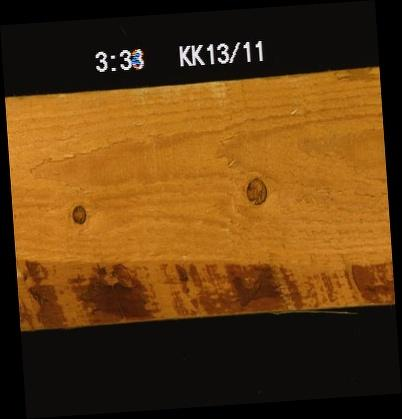dry_knot: (244, 175, 268, 206), (70, 202, 86, 224)
wave: (17, 233, 392, 317), (334, 68, 379, 84)
